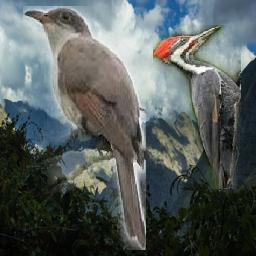Cuckoo: (24, 6, 147, 250)
Woodpecker: (153, 25, 241, 189)
